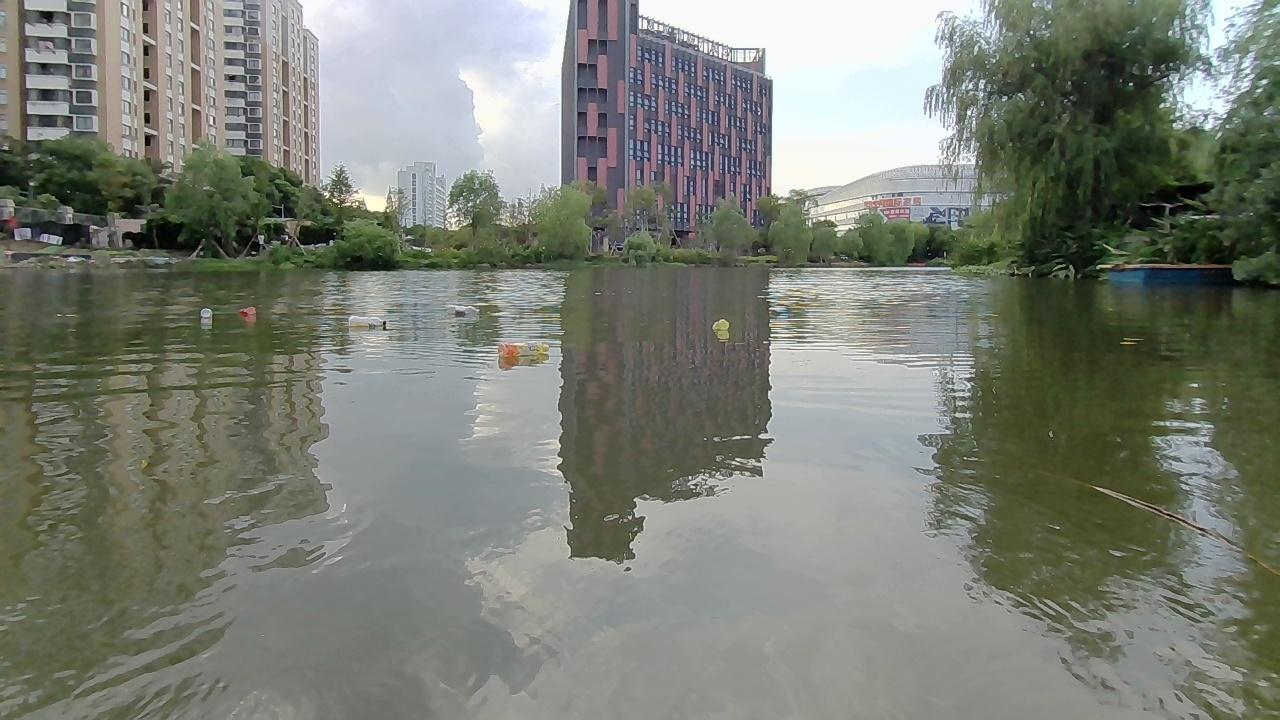bottle: (493, 338, 556, 363), (441, 299, 489, 323), (349, 314, 391, 329), (197, 303, 215, 323), (713, 318, 726, 334), (241, 302, 252, 317)
